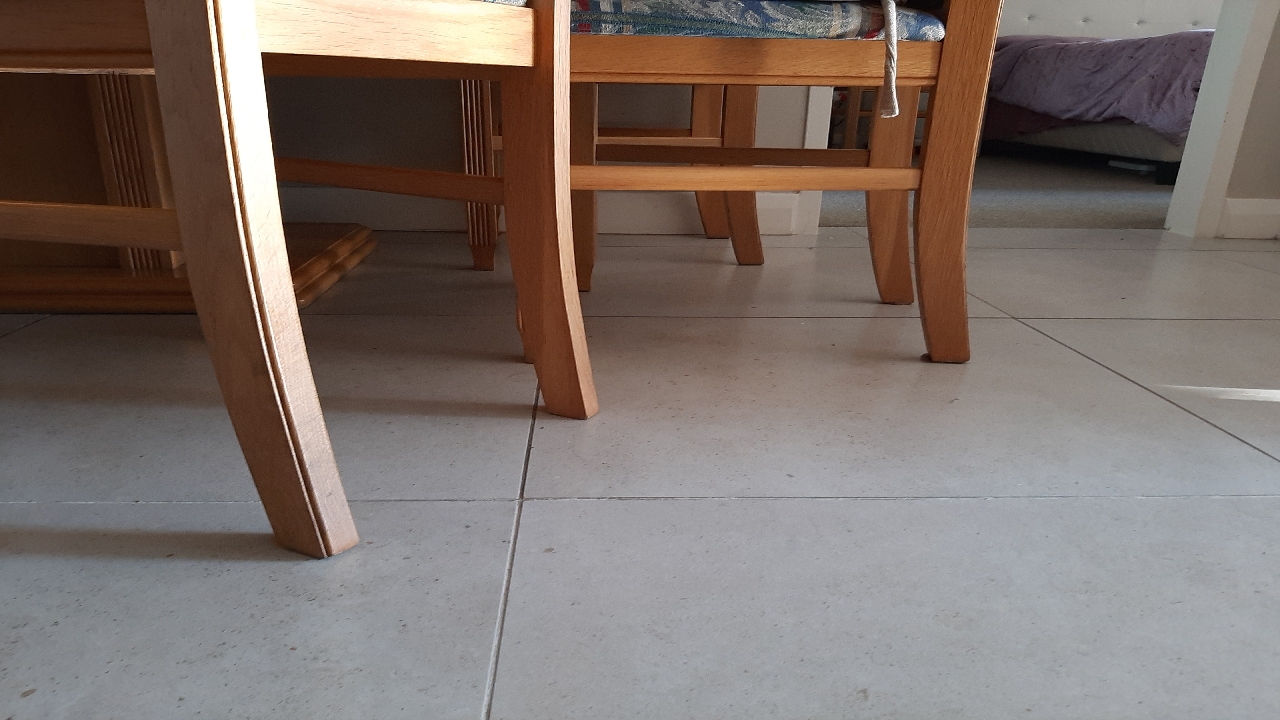chair: (131, 254, 1033, 554)
